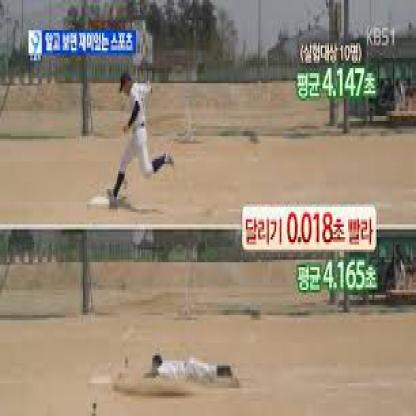Fall_Down: (130, 349, 245, 394)
